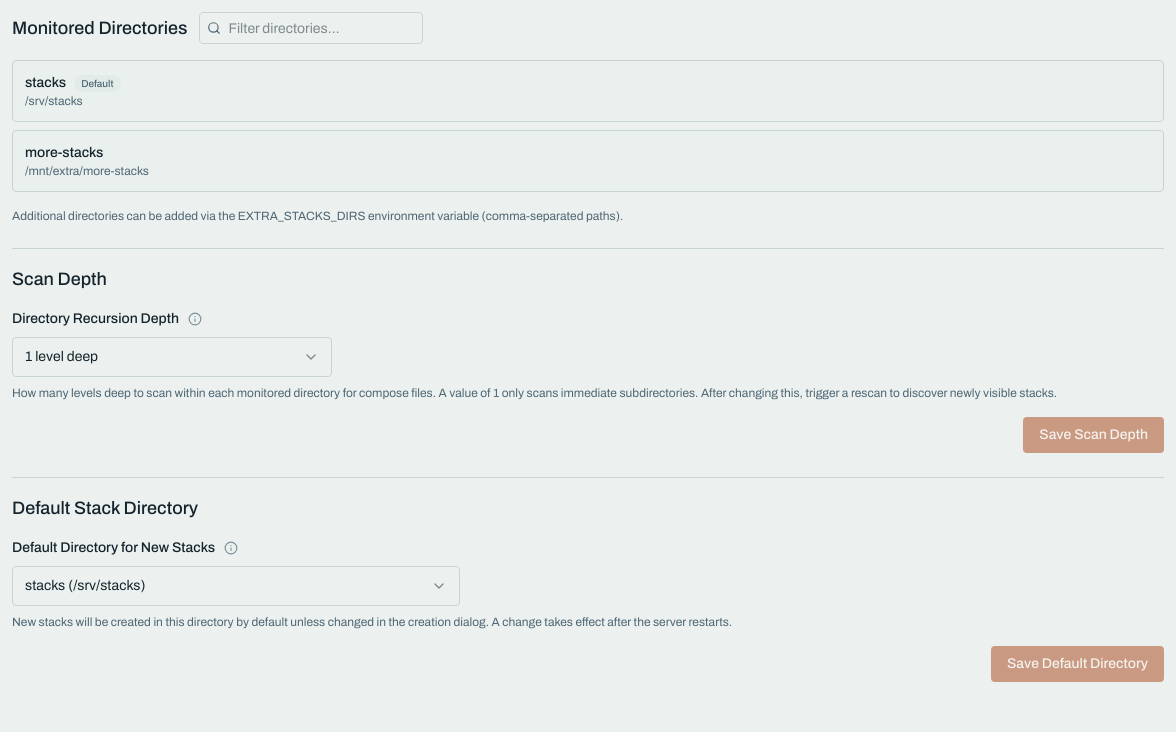
Scenario: DirectoriesSettingsContent — filtering › reports when the filter matches nothing, quoting the query
In the field with placeholder "Filter directories…": point(311, 28) [199,12,423,44], type "zzz"
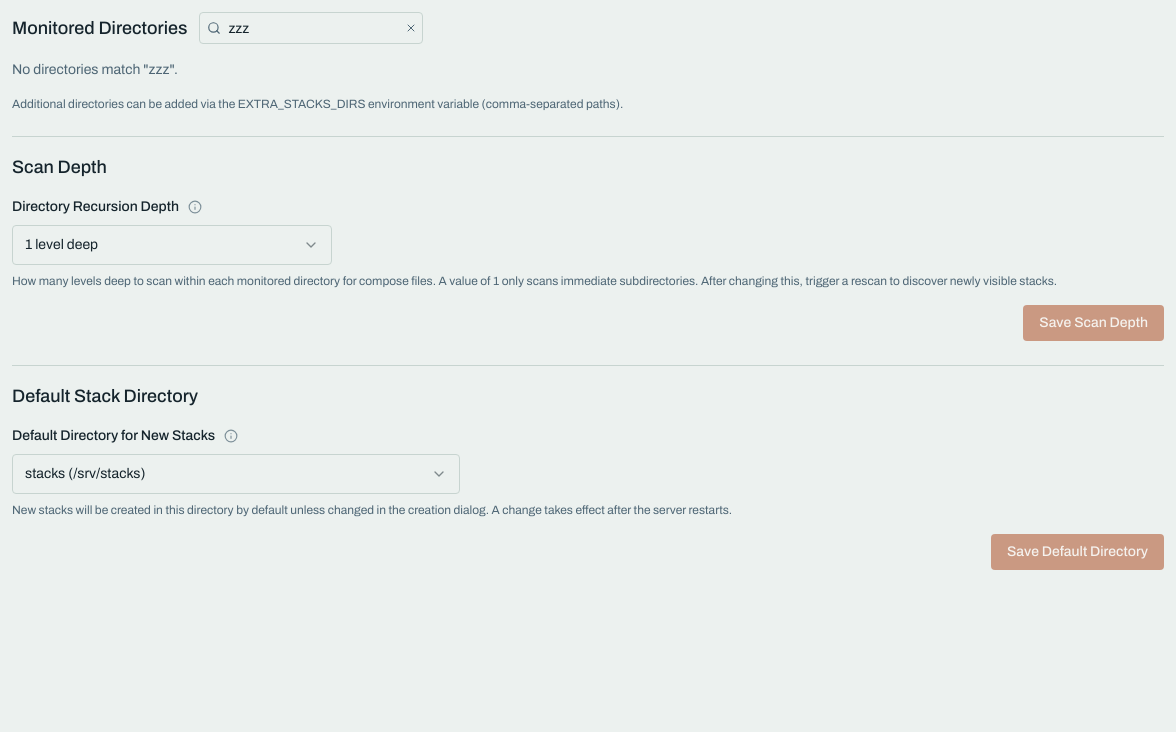
Now the text "No directories match \"zzz\"." is shown, box [12,62,178,77]
